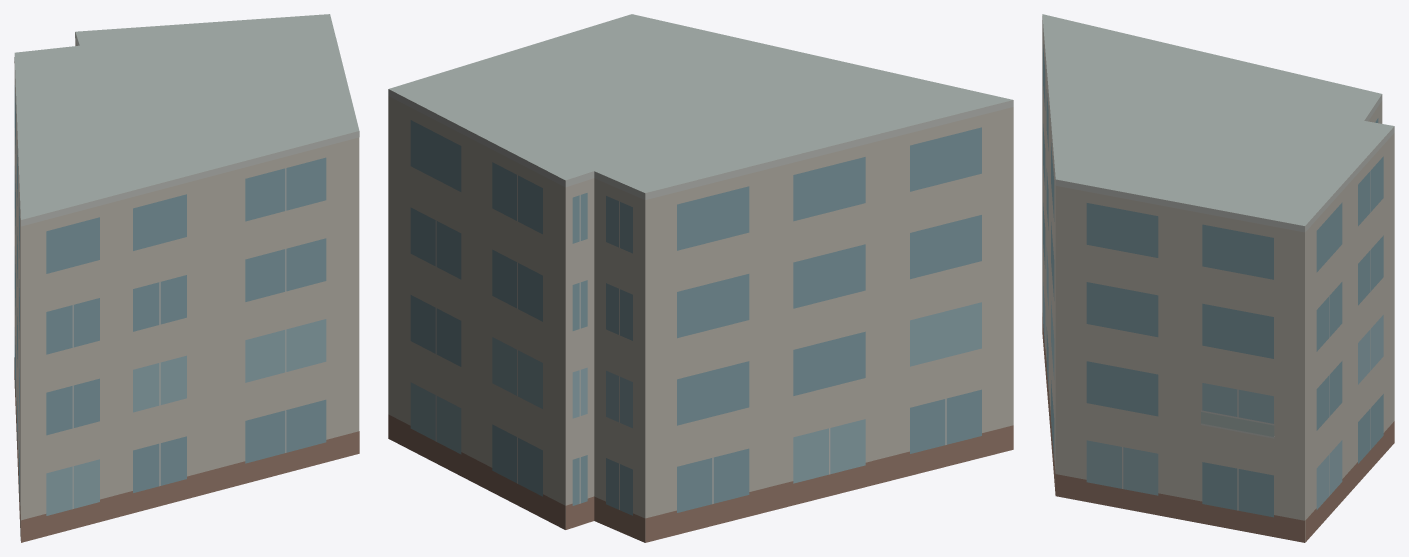
Rendered from residential-6a0346ed-ef8d-4847-943a-1fc773cea5ba.glb.
3 views of the same model, side by side, from view 1: azimuth 30°, elevation 25°; view 2: azimuth 150°, elevation 25°; view 3: azimuth 270°, elevation 25° (orthographic). The views are drawn at different scales.
Visible parts, largest first — view 1: residential-6a0346ed-ef8d-4847-943a-1fc773cea5ba.tmp; view 2: residential-6a0346ed-ef8d-4847-943a-1fc773cea5ba.tmp; view 3: residential-6a0346ed-ef8d-4847-943a-1fc773cea5ba.tmp.
Boxes of the visible parts, x1,y1,x2,y2 form: residential-6a0346ed-ef8d-4847-943a-1fc773cea5ba.tmp: (14, 14, 359, 542); residential-6a0346ed-ef8d-4847-943a-1fc773cea5ba.tmp: (388, 14, 1013, 542); residential-6a0346ed-ef8d-4847-943a-1fc773cea5ba.tmp: (1042, 14, 1394, 542).
Bounding box in the file's own units: 17.54 × 12.2 × 12.31.
